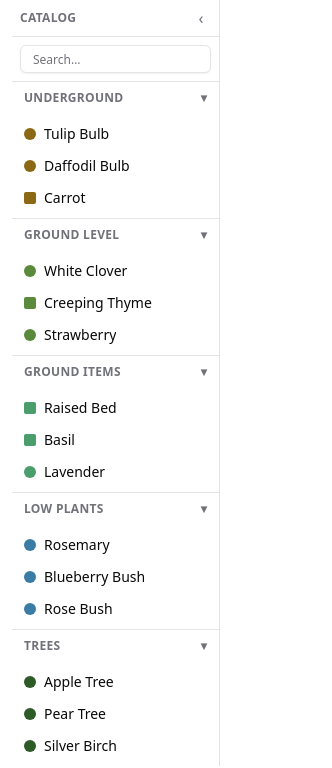
Test: Sidebar › catalog search › filters items by name (case-insensitive): typing "rose" shows Rose Bush
In the search field with test id "catalog-search": (116,59) [20,45,211,73], type "rose"
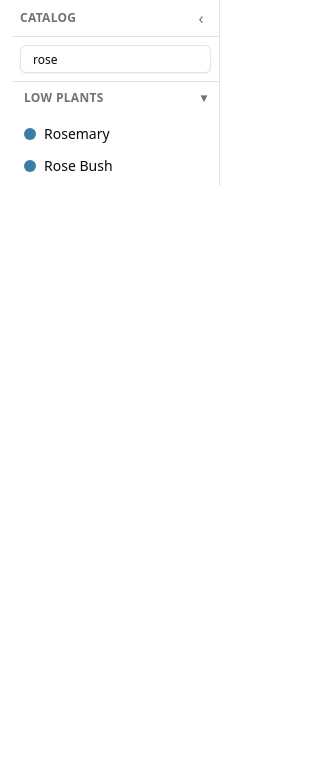
Check: the text "Rose Bush" is shown, box [44,156,112,176]
Check: the text "Apple Tree" is gone
Check: the text "Tulip Bulb" is gone
